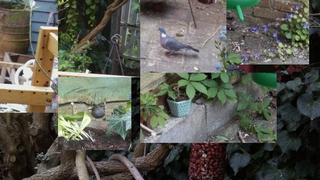sparrow: (87, 104, 105, 121)
wood pigeon: (156, 27, 200, 56)
